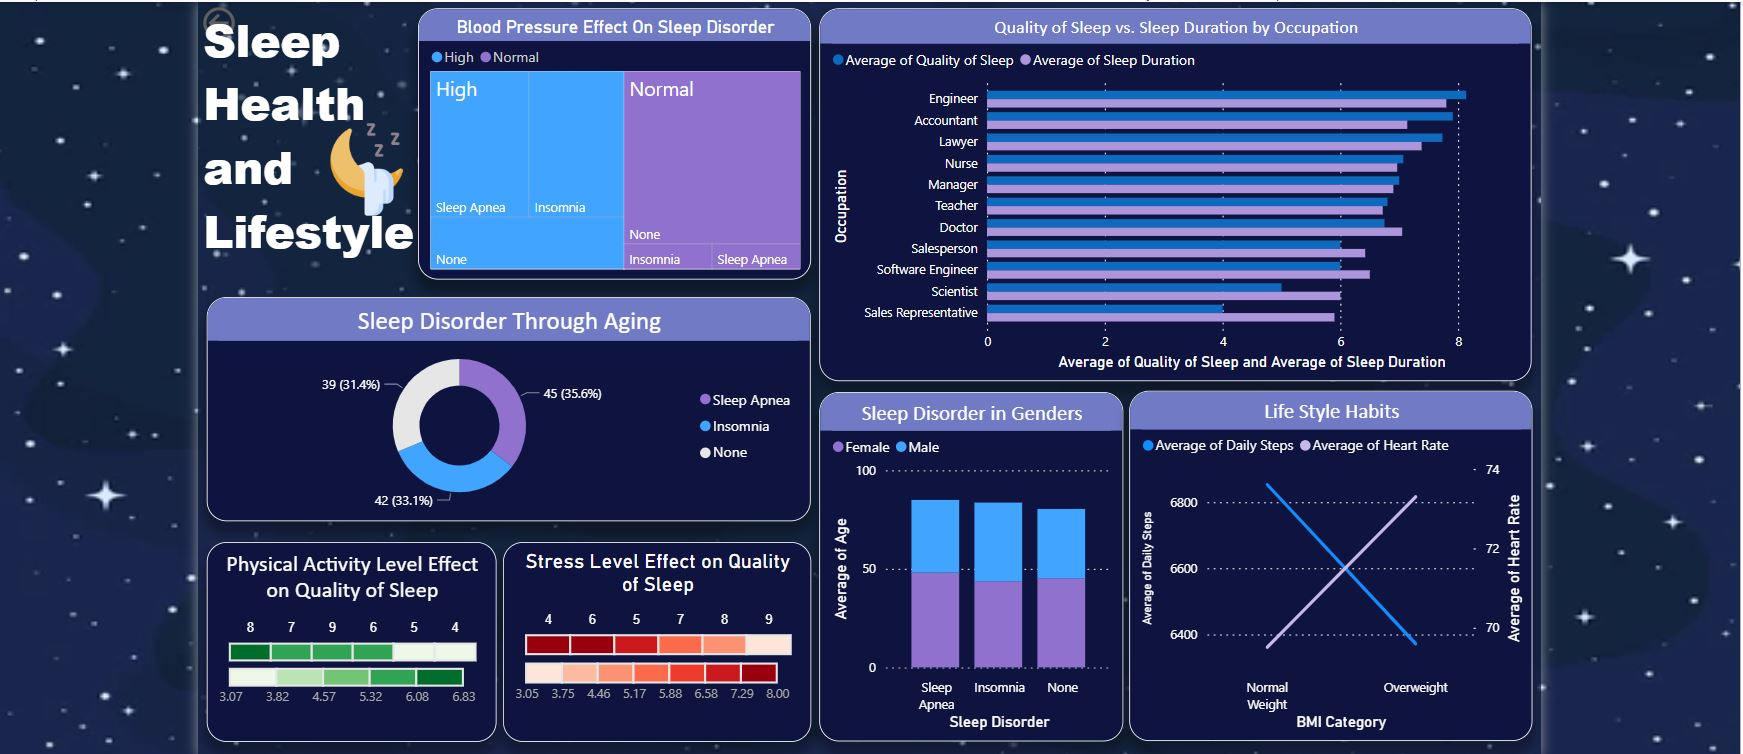

The page's visual inventory and layout, read from the dashboard file:
{"tool":"powerbi","page":{"name":"Page 1","canvas":[1280,720],"ordinal":0},"visuals":[{"type":"clusteredBarChart","title":"Quality of Sleep vs. Sleep Duration by Occupation","fields":{"Category":["Sleep_Health.Occupation"],"Y":["Avg(Sleep_Health.Quality of Sleep)","Avg(Sleep_Health.Sleep Duration)"]},"box":[591.8,5.5,678.5,355.1],"z":0},{"type":"TableHeatMap1443716069308","title":"Stress Level Effect on Quality of Sleep","fields":{"Y":["Avg(Sleep_Health.Stress Level)"],"Category":["Sleep_Health.Quality of Sleep"]},"box":[291,514,293.5,190.2],"z":1000},{"type":"actionButton","box":[0,0,100,40],"z":2000},{"type":"treemap","title":"Blood Pressure Effect On Sleep Disorder","fields":{"Group":["Sleep_Health.Blood Pressure"],"Details":["Sleep_Health.Sleep Disorder"],"Values":["CountNonNull(Sleep_Health.Blood Pressure)"]},"box":[209.2,5.5,374.4,258.8],"z":3000},{"type":"columnChart","title":"Sleep Disorder in Genders","fields":{"Category":["Sleep_Health.Sleep Disorder"],"Y":["Avg(Sleep_Health.Age)"],"Series":["Sleep_Health.Gender"]},"box":[592.1,371.7,289.8,332.6],"z":4000},{"type":"lineChart","title":"Life Style Habits","fields":{"Category":["Sleep_Health.BMI Category"],"Y":["Avg(Sleep_Health.Daily Steps)"],"Y2":["Avg(Sleep_Health.Heart Rate)"]},"box":[886.9,370.4,384.3,333.9],"z":5000},{"type":"TableHeatMap1443716069308","title":"Physical Activity Level Effect on Quality of Sleep","fields":{"Category":["Sleep_Health.Quality of Sleep"],"Y":["Avg(Sleep_Health.Physical Activity Level)"]},"box":[8.8,514,275.9,190.2],"z":6000},{"type":"donutChart","title":"Sleep Disorder Through Aging","fields":{"Y":["Avg(Sleep_Health.Age)"],"Category":["Sleep_Health.Sleep Disorder"]},"box":[8.3,280.8,575.3,213.3],"z":7000},{"type":"textbox","box":[0,0,239.5,297.3],"z":8000},{"type":"image","box":[111.5,108.7,97.7,101.8],"z":9000}]}

Visuals, with their boxes on the page's 1280x720 design canvas (x1, y1, x2, y2). These are canvas units, not pixel positions in the 1743x754 screenshot, which may show the page scaled, cropped or inside an application window:
"Quality of Sleep vs. Sleep Duration by Occupation" clusteredBarChart: [left=592, top=6, right=1270, bottom=361]
"Stress Level Effect on Quality of Sleep" TableHeatMap1443716069308: [left=291, top=514, right=584, bottom=704]
actionButton: [left=0, top=0, right=100, bottom=40]
"Blood Pressure Effect On Sleep Disorder" treemap: [left=209, top=6, right=584, bottom=264]
"Sleep Disorder in Genders" columnChart: [left=592, top=372, right=882, bottom=704]
"Life Style Habits" lineChart: [left=887, top=370, right=1271, bottom=704]
"Physical Activity Level Effect on Quality of Sleep" TableHeatMap1443716069308: [left=9, top=514, right=285, bottom=704]
"Sleep Disorder Through Aging" donutChart: [left=8, top=281, right=584, bottom=494]
textbox: [left=0, top=0, right=240, bottom=297]
image: [left=112, top=109, right=209, bottom=210]
